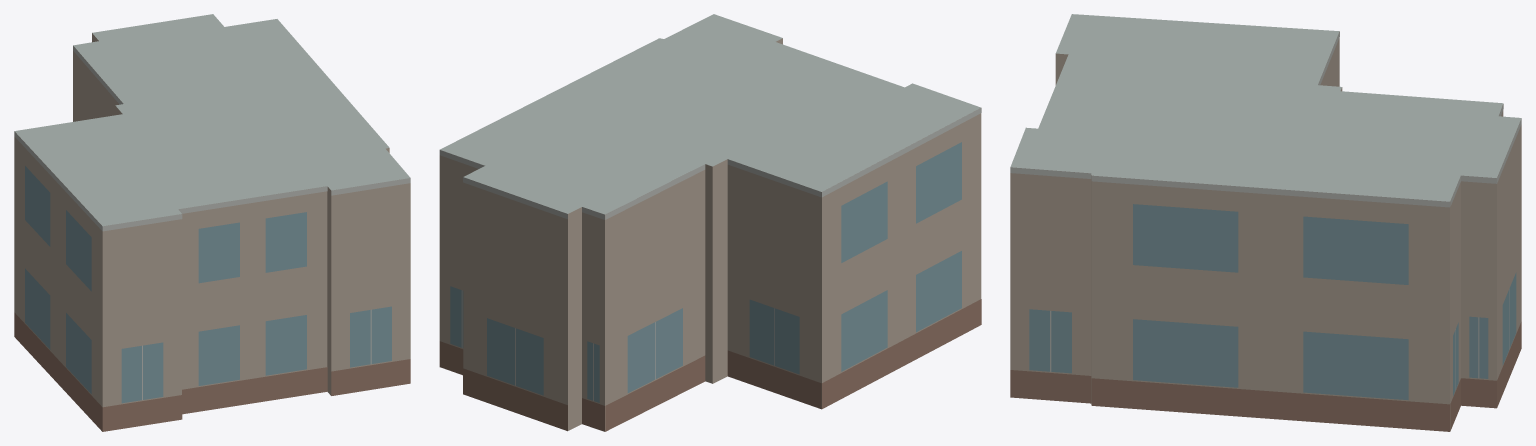
The model's file is survey-upis-32853161.glb.
3 renders of one model, left to right at view 1: azimuth 30°, elevation 25°; view 2: azimuth 150°, elevation 25°; view 3: azimuth 270°, elevation 25°, orthographic. The views are drawn at different scales.
Visible parts, largest first — view 1: survey-upis-32853161.tmp; view 2: survey-upis-32853161.tmp; view 3: survey-upis-32853161.tmp.
Boxes of the visible parts, left/top/right/bottom form: survey-upis-32853161.tmp: left=14, top=14, right=410, bottom=431; survey-upis-32853161.tmp: left=439, top=14, right=981, bottom=431; survey-upis-32853161.tmp: left=1010, top=14, right=1521, bottom=431.
Size of the model in its own units: 17.07 by 9.75 by 19.65.
